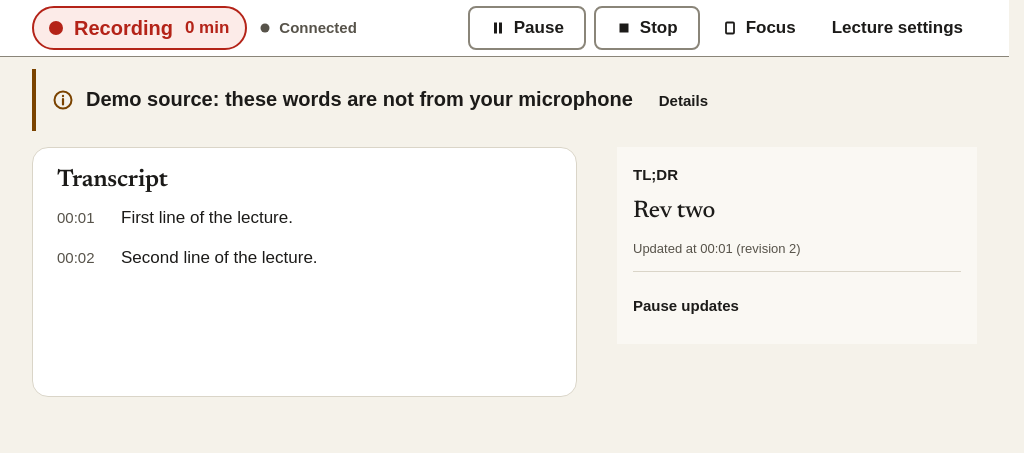
Test case: Live view (UX section 2) › TL;DR ignores older revisions; Hold updates buffers a newer one until Show latest
Click the button "Pause updates": {"x": 686, "y": 306} [619,284,753,328]
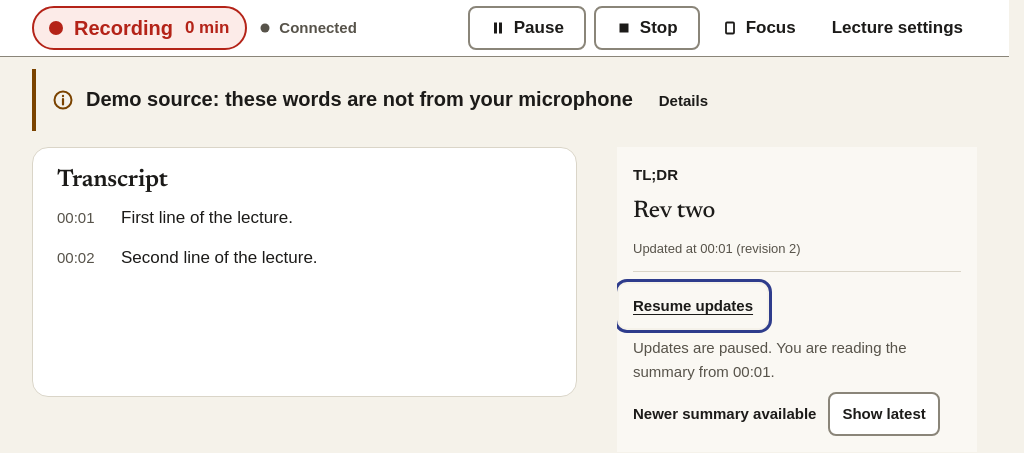
expect the button named "Pause updates" reads "Resume updates": met, box [619,284,767,328]
expect the text with test id "tldr-paused" shows "Updates are paused. You are reading the summary from": met, box [633,339,906,380]
expect the text "Newer summary available" is shown: met, box [633,402,816,426]
Click the button "Show latest": {"x": 884, "y": 414} [828,392,940,436]
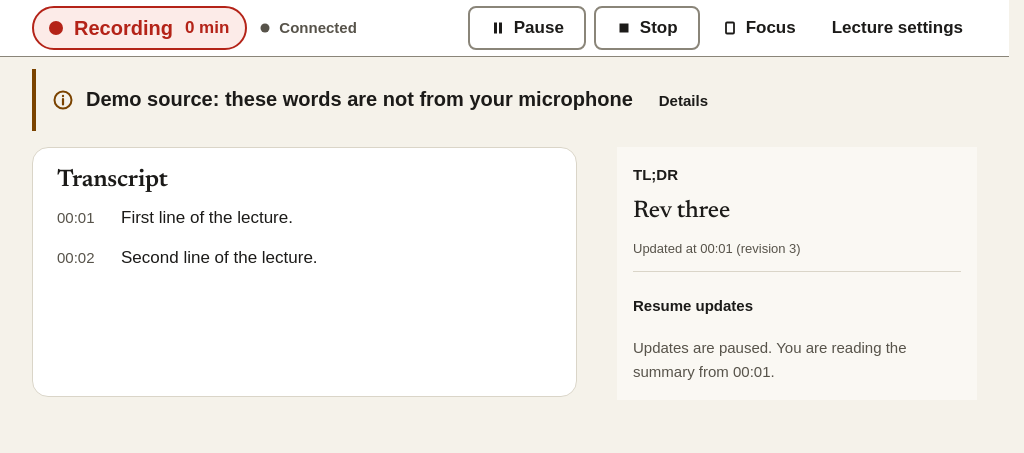
expect the text "Rev three" is shown: met, box [633,199,730,223]
